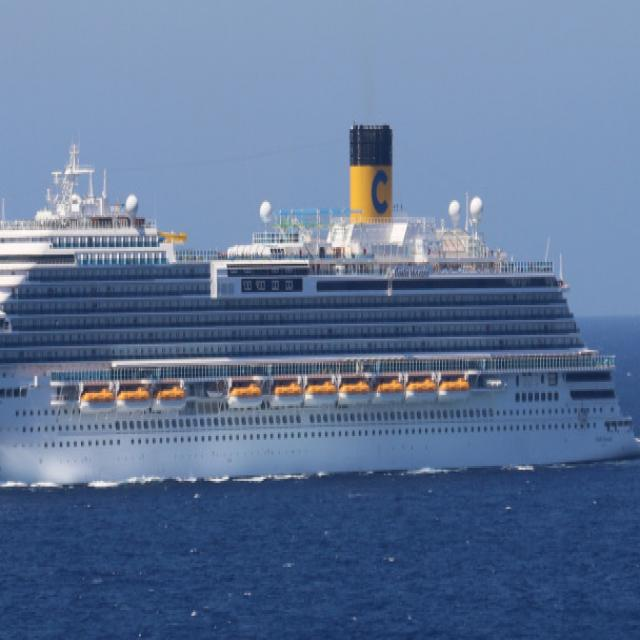cruises: (1, 121, 640, 510)
